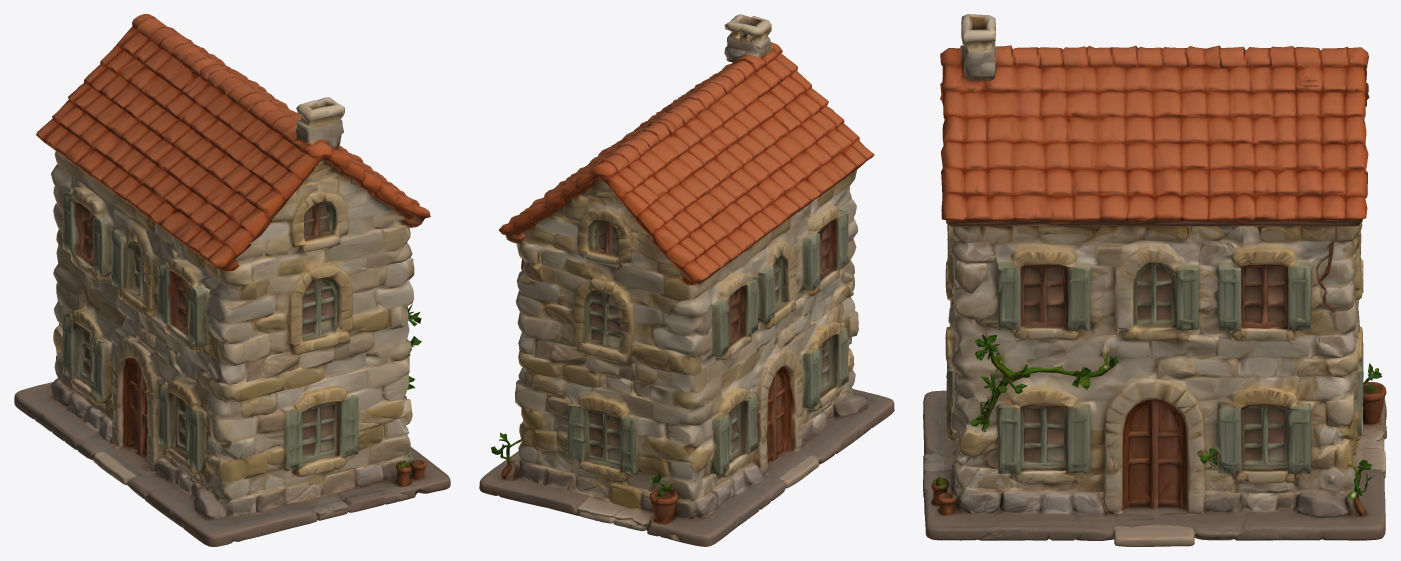
Rendered from mill.glb.
3 renders of one model, left to right at view 1: azimuth 30°, elevation 25°; view 2: azimuth 150°, elevation 25°; view 3: azimuth 270°, elevation 25°, orthographic. The views are drawn at different scales.
Visible parts, largest first — view 1: tripo_node_343a122e-935c-4a5b-826d-e49b2df7f997; view 2: tripo_node_343a122e-935c-4a5b-826d-e49b2df7f997; view 3: tripo_node_343a122e-935c-4a5b-826d-e49b2df7f997.
Boxes of the visible parts, box(x1,y1,x2,y2) form: tripo_node_343a122e-935c-4a5b-826d-e49b2df7f997: box(14, 14, 450, 546); tripo_node_343a122e-935c-4a5b-826d-e49b2df7f997: box(479, 14, 894, 546); tripo_node_343a122e-935c-4a5b-826d-e49b2df7f997: box(923, 14, 1386, 546).
Size of the model in its own units: 0.679 by 0.9789 by 0.9004.
1 material, 1 textured.
